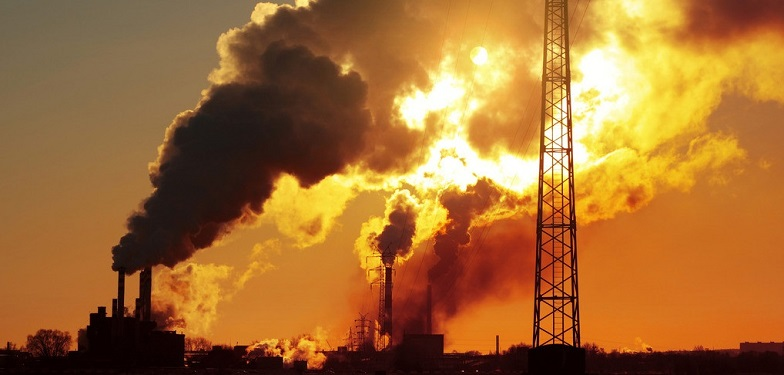dust: (78, 48, 357, 279), (417, 173, 497, 288), (358, 191, 421, 274)
